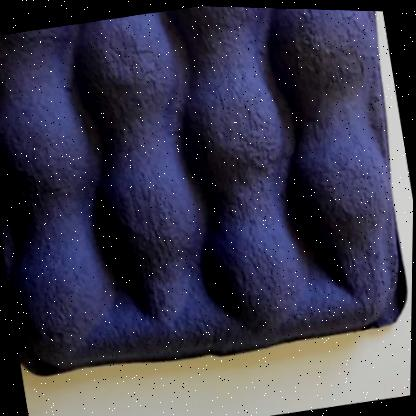Paper: (0, 4, 406, 374)
